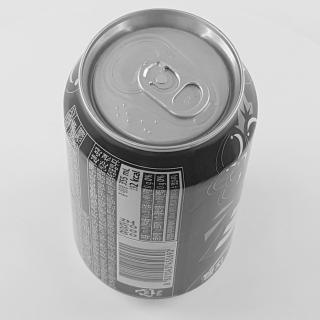alumunium_can: (60, 2, 265, 320)
